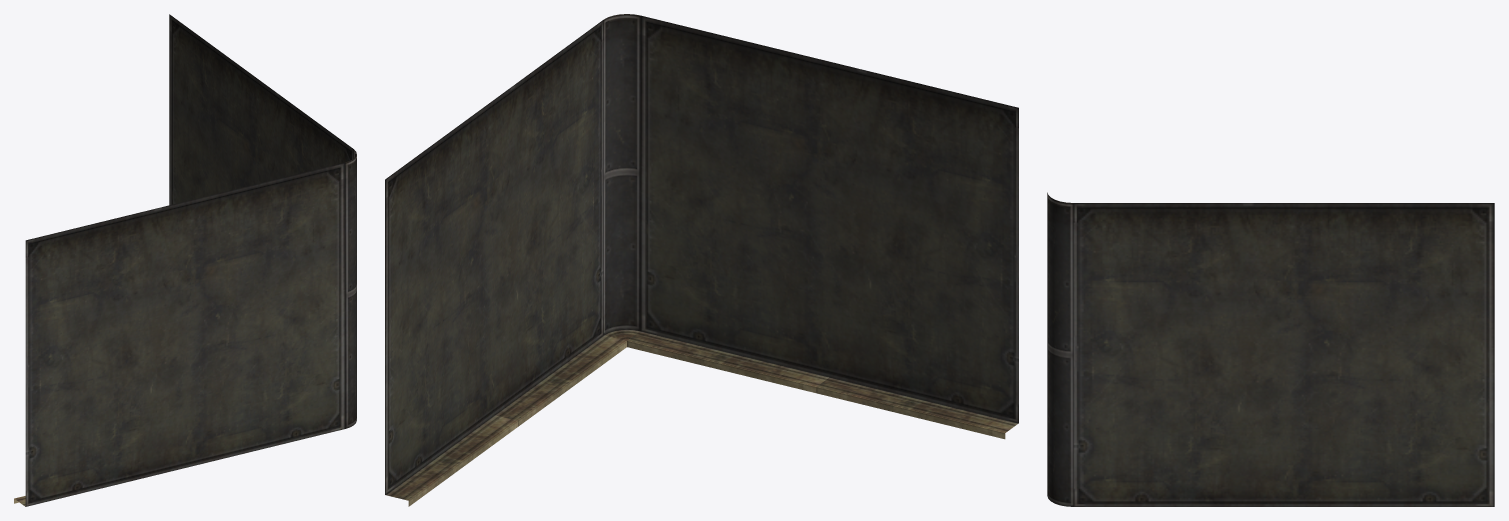
Rendered from pplant_ground_concave_blank_notop.dae.
3 views of the same model, side by side, from view 1: azimuth 30°, elevation 25°; view 2: azimuth 150°, elevation 25°; view 3: azimuth 270°, elevation 25° (orthographic). The views are drawn at different scales.
Parts seen in each view (by area): view 1: ground_concave_blank_notop; view 2: ground_concave_blank_notop; view 3: ground_concave_blank_notop.
Boxes of the visible parts, box(x1,y1,x2,y2) form: ground_concave_blank_notop: box(14, 14, 356, 506); ground_concave_blank_notop: box(385, 14, 1018, 506); ground_concave_blank_notop: box(1047, 192, 1494, 506).
Bounding box in the file's own units: 4.25 × 3.25 × 4.25.
